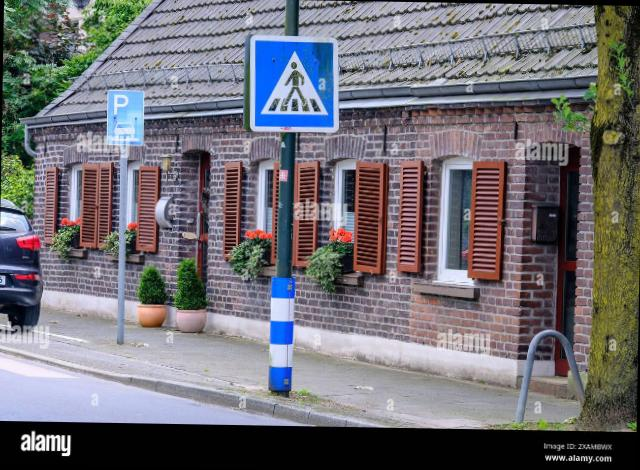crosswalk-sign: (244, 35, 342, 135)
